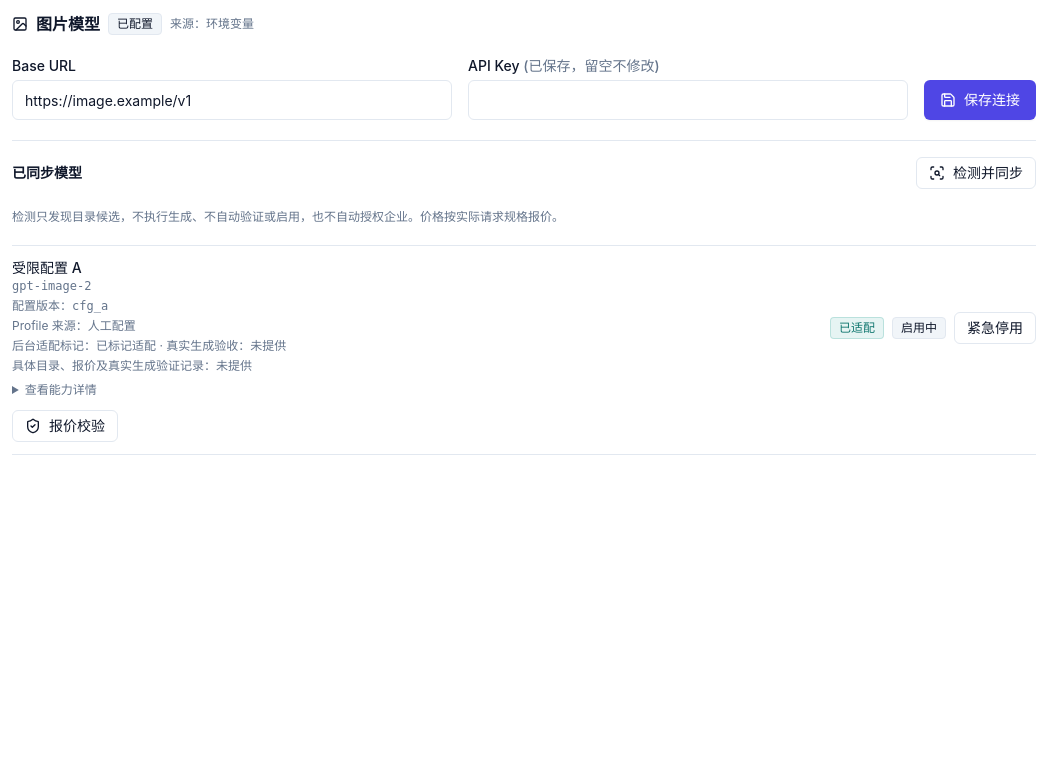
Test: image model configuration boundaries › shows each profile capability snapshot without implying real generation verification
Expected: the text "配置版本：cfg_a" is shown, [12, 299, 108, 313]
Expected: the text "Profile 来源：人工配置" is shown, [12, 318, 136, 333]
Click the heading "查看能力详情": {"x": 54, "y": 390} [12, 382, 97, 398]
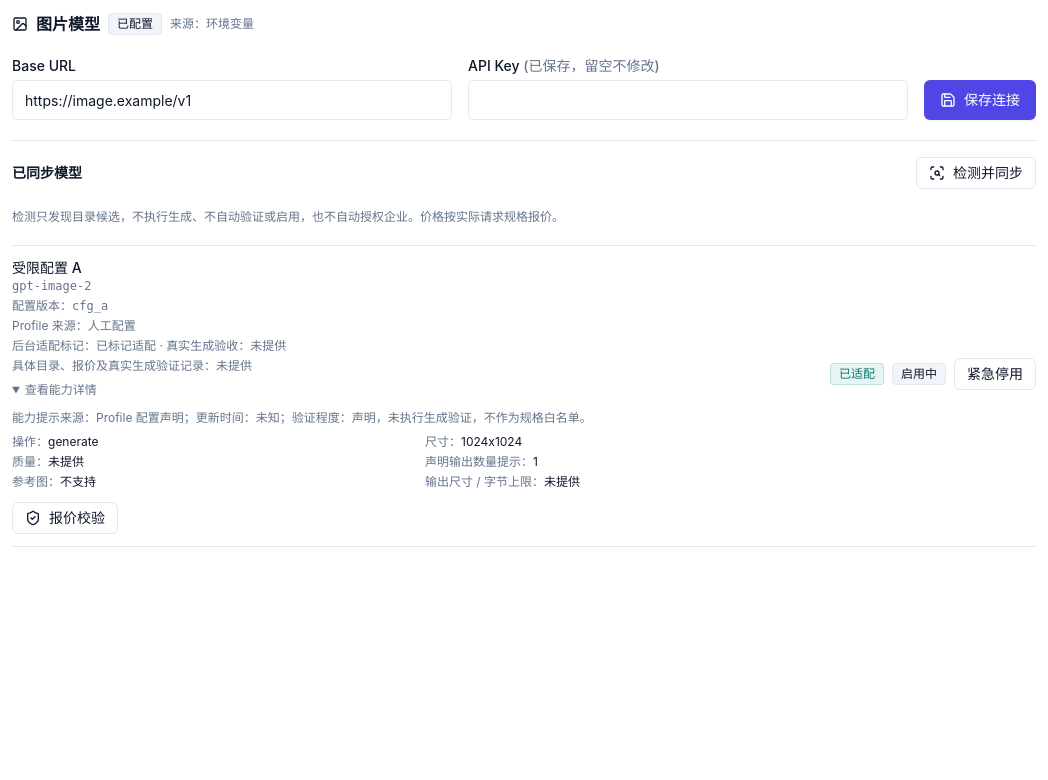
Now the text "1024x1024" is shown, box [461, 434, 522, 449]
Now the text "未提供" is shown 2 times, box [48, 454, 84, 469]; [544, 474, 580, 489]
